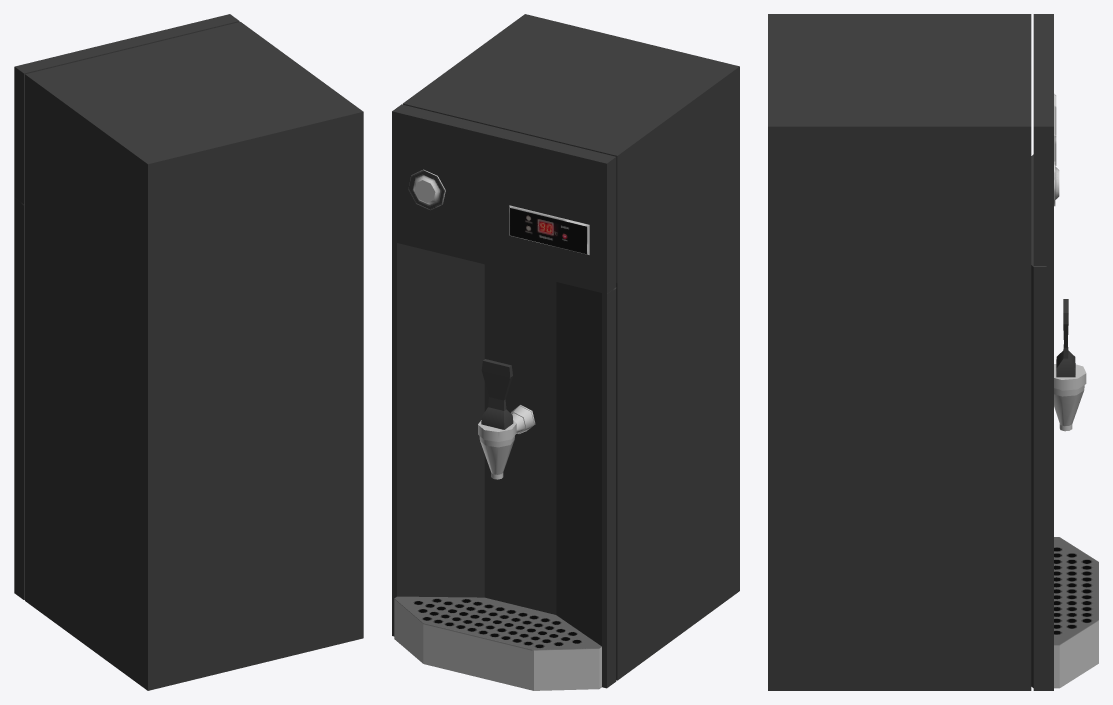
The model's file is LC_3072_Waterheater_LOD1.fbx.
3 renders of one model, left to right at view 1: azimuth 30°, elevation 25°; view 2: azimuth 150°, elevation 25°; view 3: azimuth 270°, elevation 25°, orthographic. The views are drawn at different scales.
Parts seen in each view (by area): view 1: LC_3072_Waterheater_LOD1; view 2: LC_3072_Waterheater_LOD1; view 3: LC_3072_Waterheater_LOD1.
Part boxes in pixels (x1,y1,x2,y2): LC_3072_Waterheater_LOD1: [14, 14, 363, 690]; LC_3072_Waterheater_LOD1: [392, 14, 739, 690]; LC_3072_Waterheater_LOD1: [768, 14, 1098, 690].
Bounding box in the file's own units: 22.1 × 51.6 × 27.41.
1 material, 1 textured.
